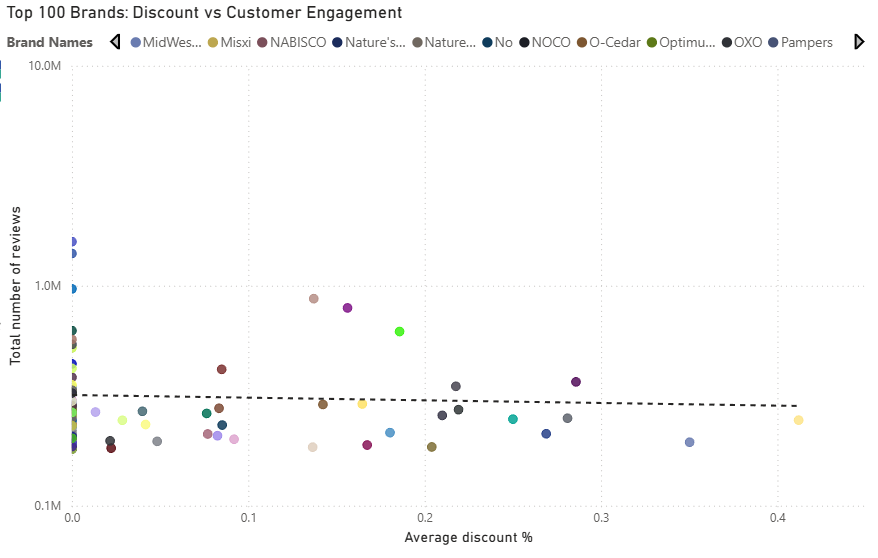

The page's visual inventory and layout, read from the dashboard file:
{"tool":"powerbi","page":{"name":"Q3","canvas":[1280,720],"ordinal":3},"visuals":[{"type":"scatterChart","title":"Top 100 Brands: Discount vs Customer Engagement","fields":{"X":["amazon_analysis products.Avg Discount %"],"Y":["amazon_analysis products.reviewCount"],"Series":["amazon_analysis products.brandName_cleaned"]},"box":[150.8,22.4,853.8,533.3],"z":1000}]}

Visuals, with their boxes in screenshot pixels (x1, y1, x2, y2):
"Top 100 Brands: Discount vs Customer Engagement" scatterChart: region(70, 38, 648, 399)
